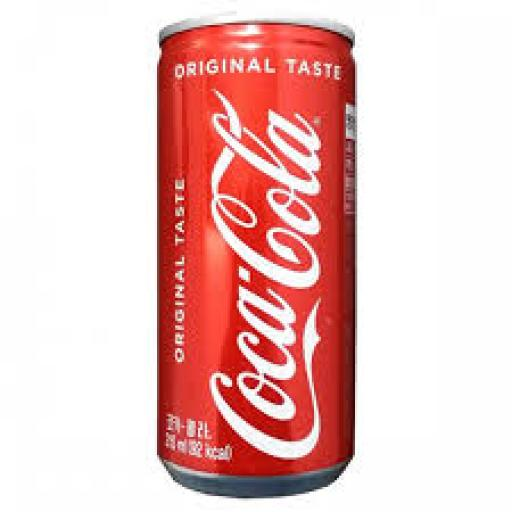Coca: (140, 10, 369, 502)
